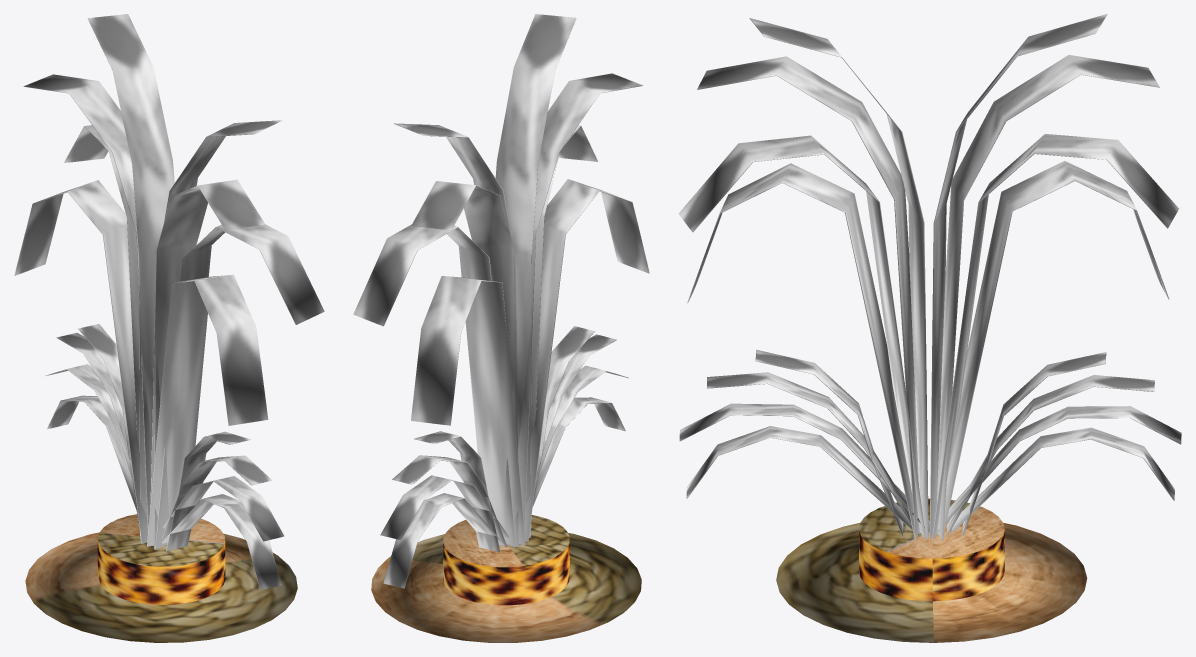
Rendered from helmet_com_4.dae.
3 views of the same model, side by side, from view 1: azimuth 30°, elevation 25°; view 2: azimuth 150°, elevation 25°; view 3: azimuth 270°, elevation 25° (orthographic). The views are drawn at different scales.
Parts seen in each view (by area): view 1: helmet_com_4; view 2: helmet_com_4; view 3: helmet_com_4.
Part boxes in pixels (box(x1,y1,x2,y2)): helmet_com_4: box(14, 14, 324, 642); helmet_com_4: box(353, 14, 649, 642); helmet_com_4: box(678, 14, 1181, 642).
Bounding box in the file's own units: 0.9822 × 1.64 × 2.04.
